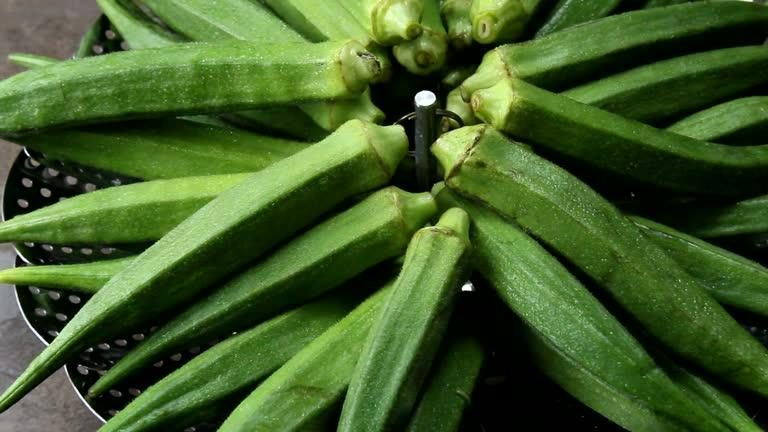okra: (0, 0, 767, 431), (0, 36, 381, 135)
